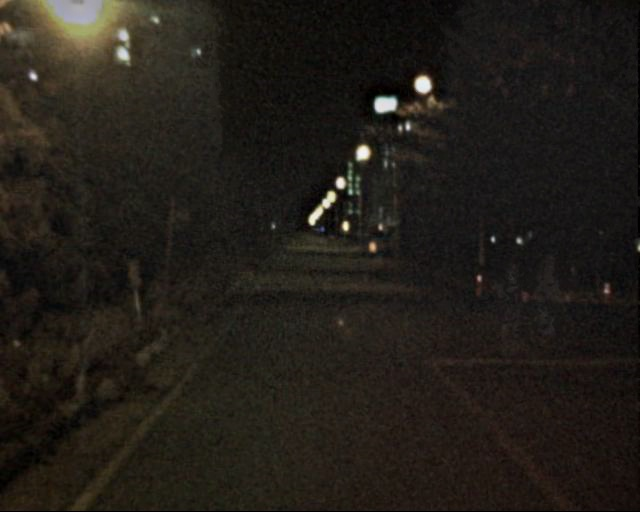person: (530, 254, 568, 346), (495, 266, 529, 350)
